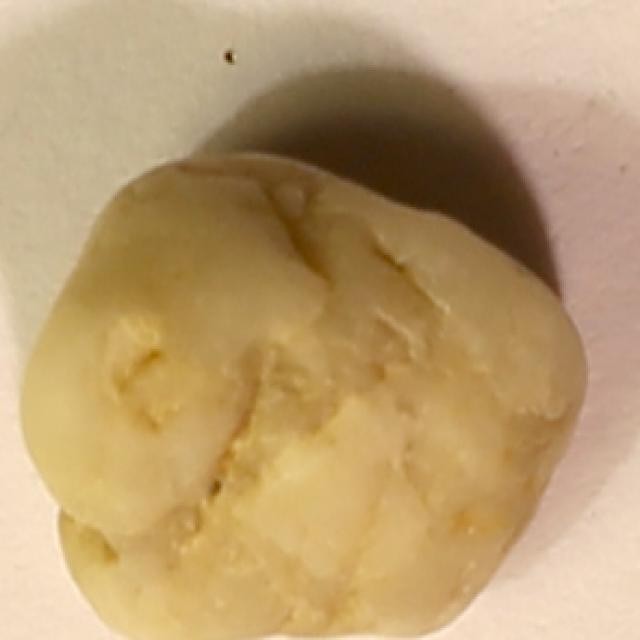stone: (11, 146, 586, 636)
